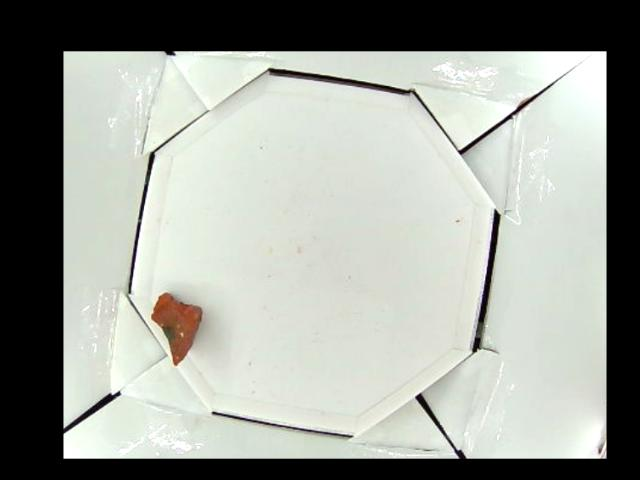Brisk: (150, 292, 206, 366)
